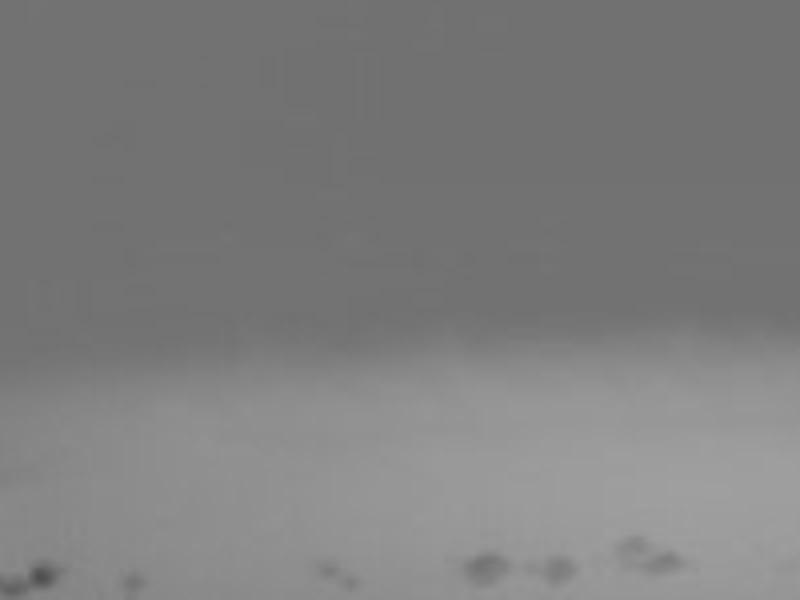defect: (466, 551, 508, 590), (539, 554, 578, 594), (642, 549, 687, 578), (614, 532, 649, 558), (29, 562, 57, 584), (125, 572, 147, 599), (3, 575, 31, 596), (340, 575, 359, 600), (319, 558, 342, 578)
